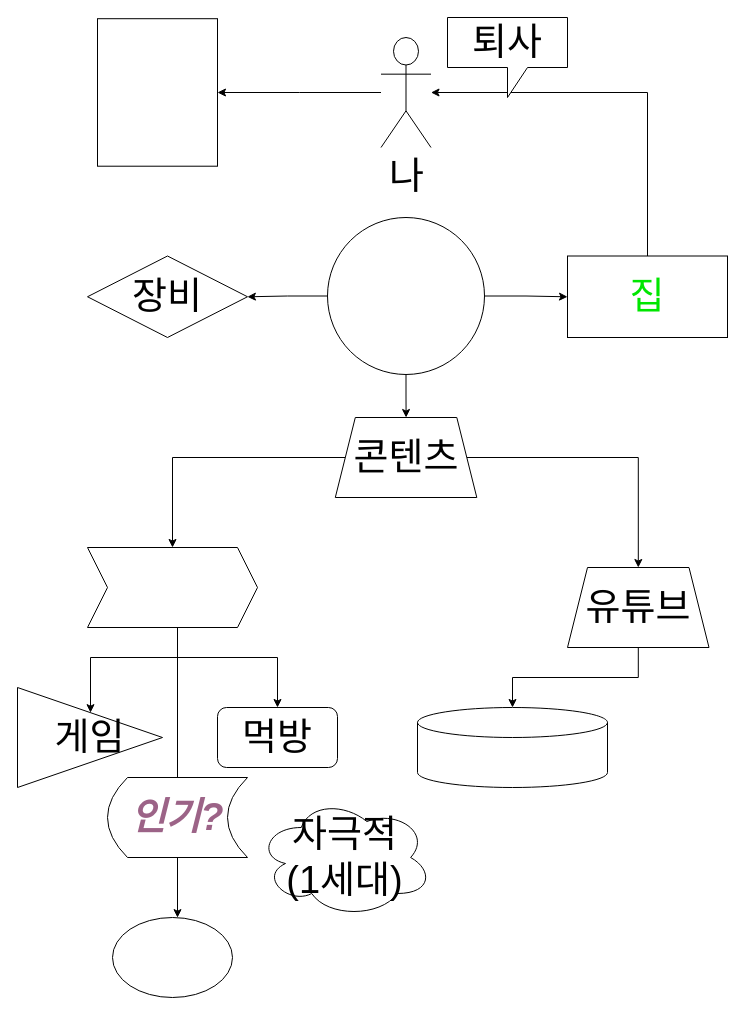
Image size: 745x1015. Some labels were removed from this diagram. The shapes that lost their labels are listed below. From the top down, each one's box as (x1, y1, x2, y2) in pixels, then its label:
(96, 18, 218, 166): 참여자 배우 편집
(326, 216, 484, 374): 방송
(86, 546, 258, 628): 아프리카
(416, 706, 608, 788): 몰래카메라
(112, 916, 232, 998): 소통
